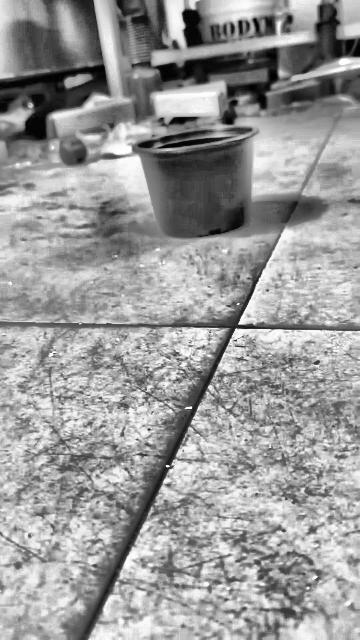pot: (131, 126, 259, 237)
